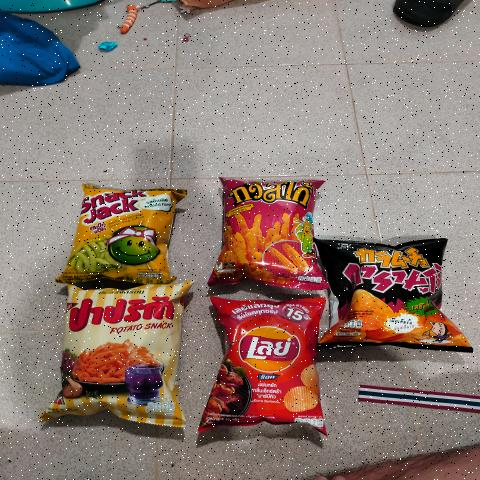karamujo: (336, 240, 456, 346)
paprika: (73, 296, 174, 422)
snack_jack: (84, 188, 162, 277)
twisco: (230, 185, 316, 283)
